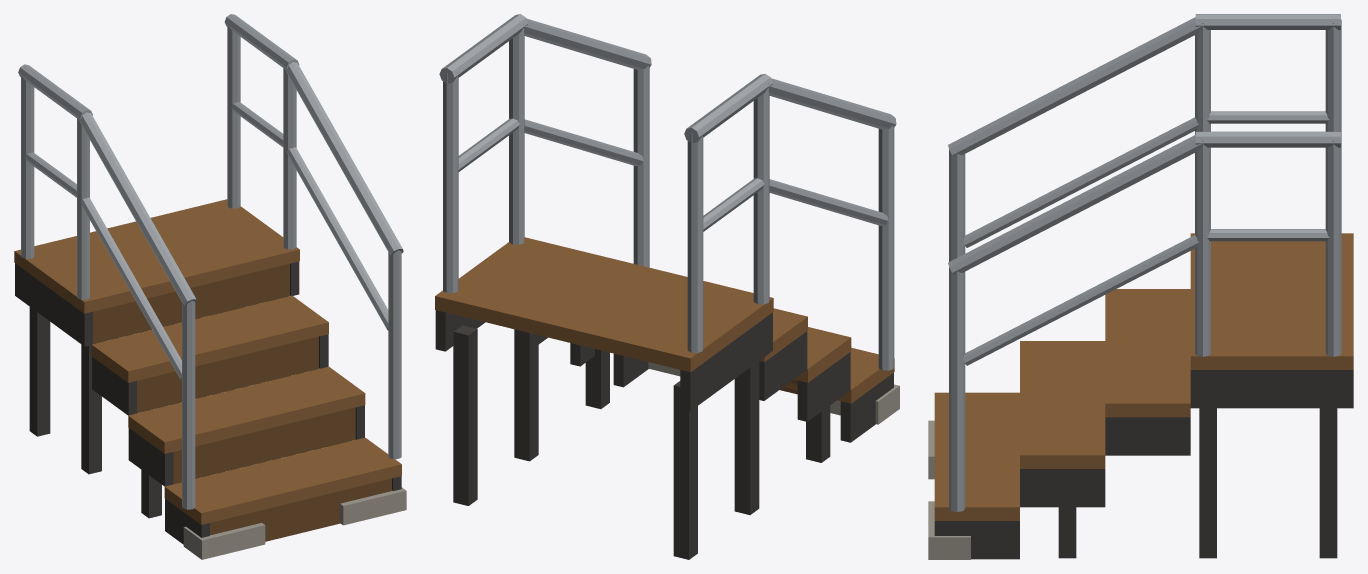
Rendered from trailer_steps.glb.
3 views of the same model, side by side, from view 1: azimuth 30°, elevation 25°; view 2: azimuth 150°, elevation 25°; view 3: azimuth 270°, elevation 25° (orthographic). The views are drawn at different scales.
Parts seen in each view (by area): view 1: trailer_steps; view 2: trailer_steps; view 3: trailer_steps.
Boxes of the visible parts, bbox=[...] form: trailer_steps: bbox=[14, 14, 406, 559]; trailer_steps: bbox=[435, 14, 899, 559]; trailer_steps: bbox=[928, 14, 1353, 559].
Size of the model in its own units: 1.18 by 1.89 by 1.7.
